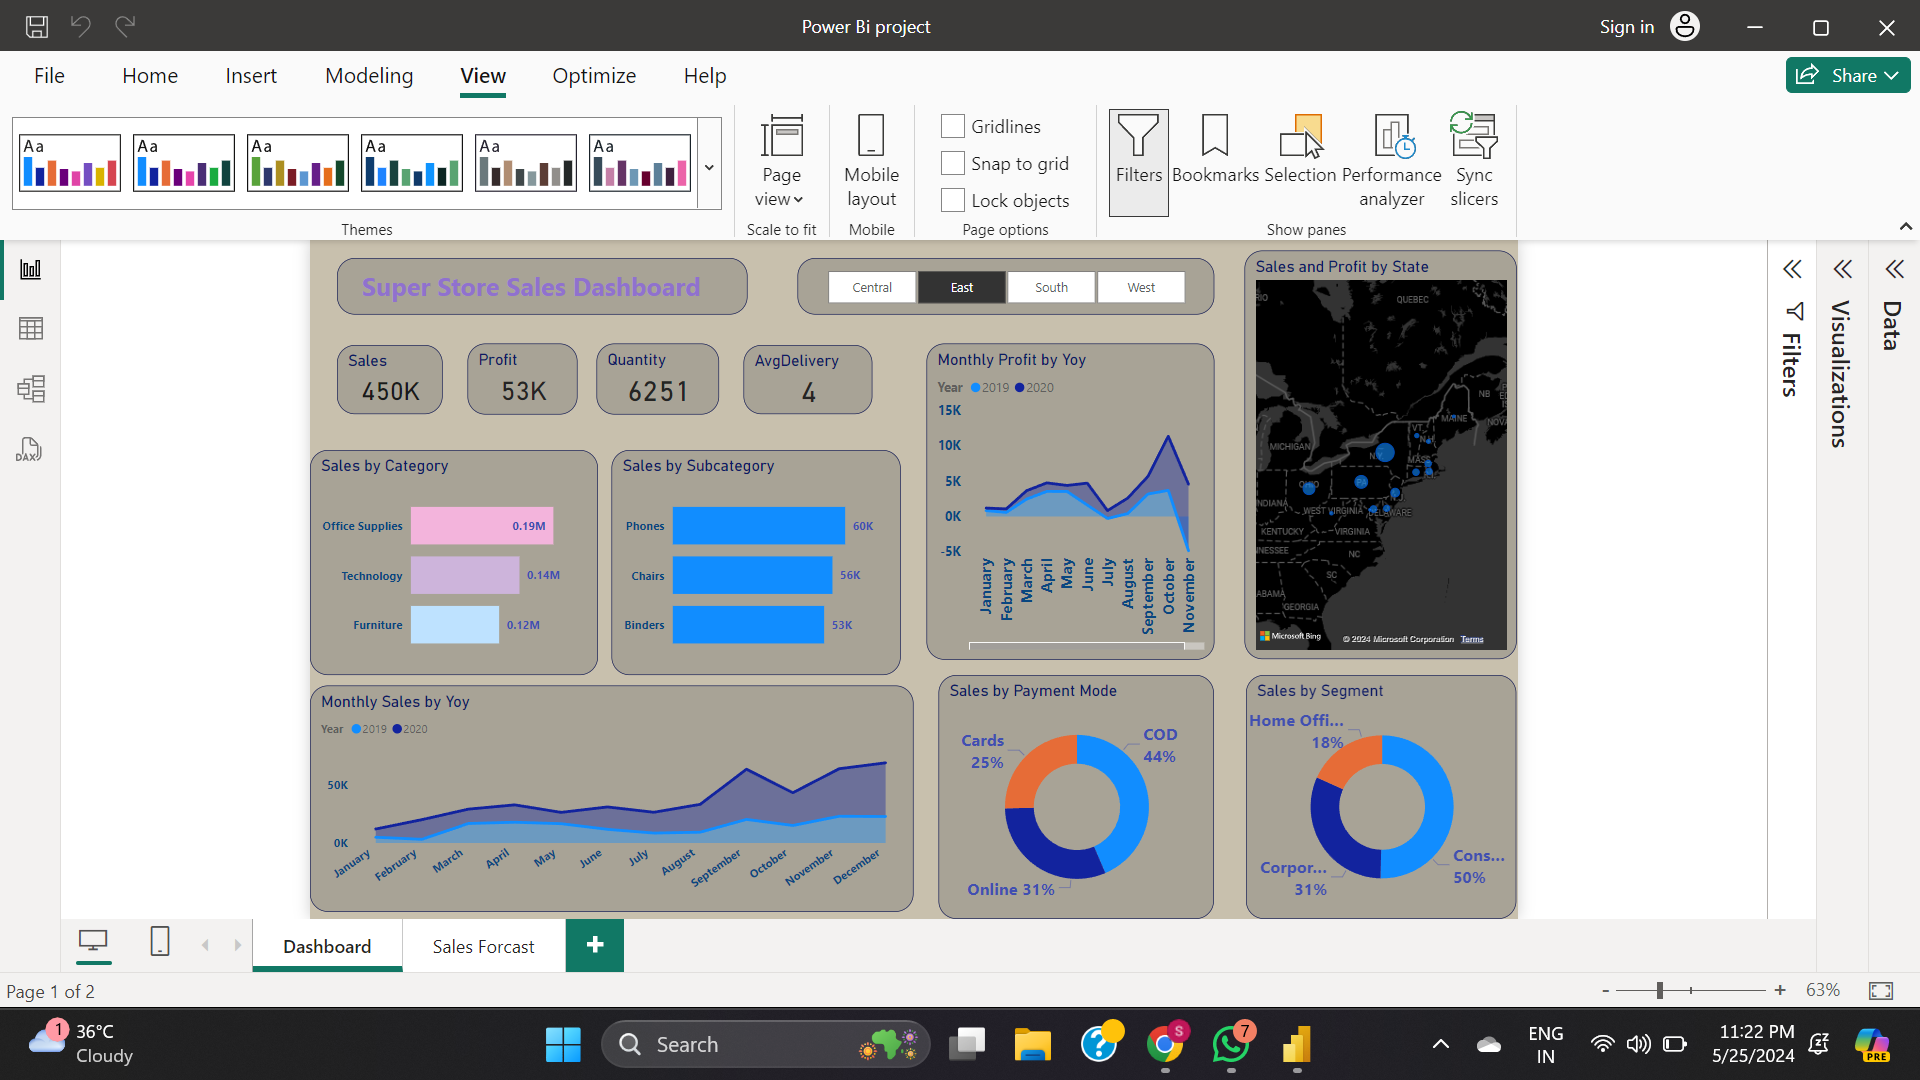

The page's visual inventory and layout, read from the dashboard file:
{"tool":"powerbi","page":{"name":"Dashboard","canvas":[1280,720],"ordinal":0},"visuals":[{"type":"clusteredBarChart","title":"Sales by Category","fields":{"Category":["Sheet1.Category"],"Y":["Sum(Sheet1.Sales)"]},"box":[0,223.3,305,238.3],"z":0},{"type":"clusteredBarChart","title":"Sales by Subcategory","fields":{"Category":["Sheet1.Sub-Category"],"Y":["Sum(Sheet1.Sales)"]},"box":[320,223.3,306.7,238.3],"z":1000},{"type":"stackedAreaChart","title":"Monthly Sales by Yoy","fields":{"Y":["Sum(Sheet1.Sales)"],"Category":["Sheet1.Order Date.Variation.Date Hierarchy.Month","Sheet1.Order Date.Variation.Date Hierarchy.Day"],"Series":["Sheet1.Order Date.Variation.Date Hierarchy.Year"]},"box":[0,471.7,640,240],"z":2000},{"type":"stackedAreaChart","title":"Monthly Profit by Yoy","fields":{"Category":["Sheet1.Order Date.Variation.Date Hierarchy.Month","Sheet1.Order Date.Variation.Date Hierarchy.Day"],"Series":["Sheet1.Order Date.Variation.Date Hierarchy.Year"],"Y":["Sum(Sheet1.Profit)"]},"box":[653.3,110,305,335],"z":3000},{"type":"map","title":"Sales and  Profit by State","fields":{"Category":["Sheet1.State"],"Size":["Sum(Sheet1.Sales)"]},"box":[991.7,11.7,288.3,433.3],"z":4000},{"type":"donutChart","title":" Sales by Segment","fields":{"Category":["Sheet1.Segment"],"Y":["Sum(Sheet1.Sales)"]},"box":[993.3,461.7,286.7,258.3],"z":5000},{"type":"donutChart","title":"Sales by Payment Mode","fields":{"Category":["Sheet1.Payment Mode"],"Y":["Sum(Sheet1.Sales)"]},"box":[666.7,461.7,291.7,258.3],"z":6000},{"type":"slicer","fields":{"Values":["Sheet1.Region"]},"box":[516.7,18.3,441.7,60],"z":7000},{"type":"textbox","box":[28.3,18.3,435,60],"z":8000},{"type":"card","title":"Sales","fields":{"Values":["Sum(Sheet1.Sales)"]},"box":[28.3,111.7,111.7,73.3],"z":9000},{"type":"card","title":"Quantity","fields":{"Values":["Sum(Sheet1.Quantity)"]},"box":[303.3,110,130,75],"z":10000},{"type":"card","title":"Profit","fields":{"Values":["Sum(Sheet1.Profit)"]},"box":[166.7,110,116.7,75],"z":11000},{"type":"card","title":"AvgDelivery","fields":{"Values":["Avg(Sheet1.AvgDelivery)"]},"box":[460,111.7,136.7,73.3],"z":12000}]}

Visuals, with their boxes on the page's 1280x720 design canvas (x1, y1, x2, y2). These are canvas units, not pixel positions in the 1920x1080 screenshot, which may show the page scaled, cropped or inside an application window:
"Sales by Category" clusteredBarChart: (left=0, top=223, right=305, bottom=462)
"Sales by Subcategory" clusteredBarChart: (left=320, top=223, right=627, bottom=462)
"Monthly Sales by Yoy" stackedAreaChart: (left=0, top=472, right=640, bottom=712)
"Monthly Profit by Yoy" stackedAreaChart: (left=653, top=110, right=958, bottom=445)
"Sales and  Profit by State" map: (left=992, top=12, right=1280, bottom=445)
" Sales by Segment" donutChart: (left=993, top=462, right=1280, bottom=720)
"Sales by Payment Mode" donutChart: (left=667, top=462, right=958, bottom=720)
slicer - Sheet1.Region: (left=517, top=18, right=958, bottom=78)
textbox: (left=28, top=18, right=463, bottom=78)
"Sales" card: (left=28, top=112, right=140, bottom=185)
"Quantity" card: (left=303, top=110, right=433, bottom=185)
"Profit" card: (left=167, top=110, right=283, bottom=185)
"AvgDelivery" card: (left=460, top=112, right=597, bottom=185)
